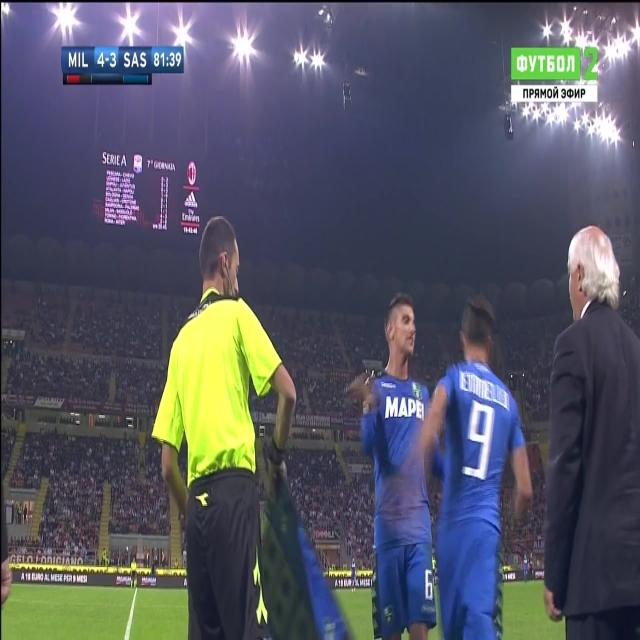Player: (420, 288, 536, 640), (353, 291, 442, 640)
Referee: (152, 218, 296, 637)
